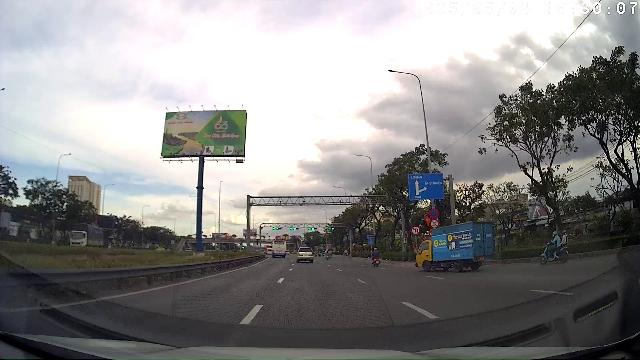130-cam-dung-va-do-xe: (428, 208, 439, 218)
